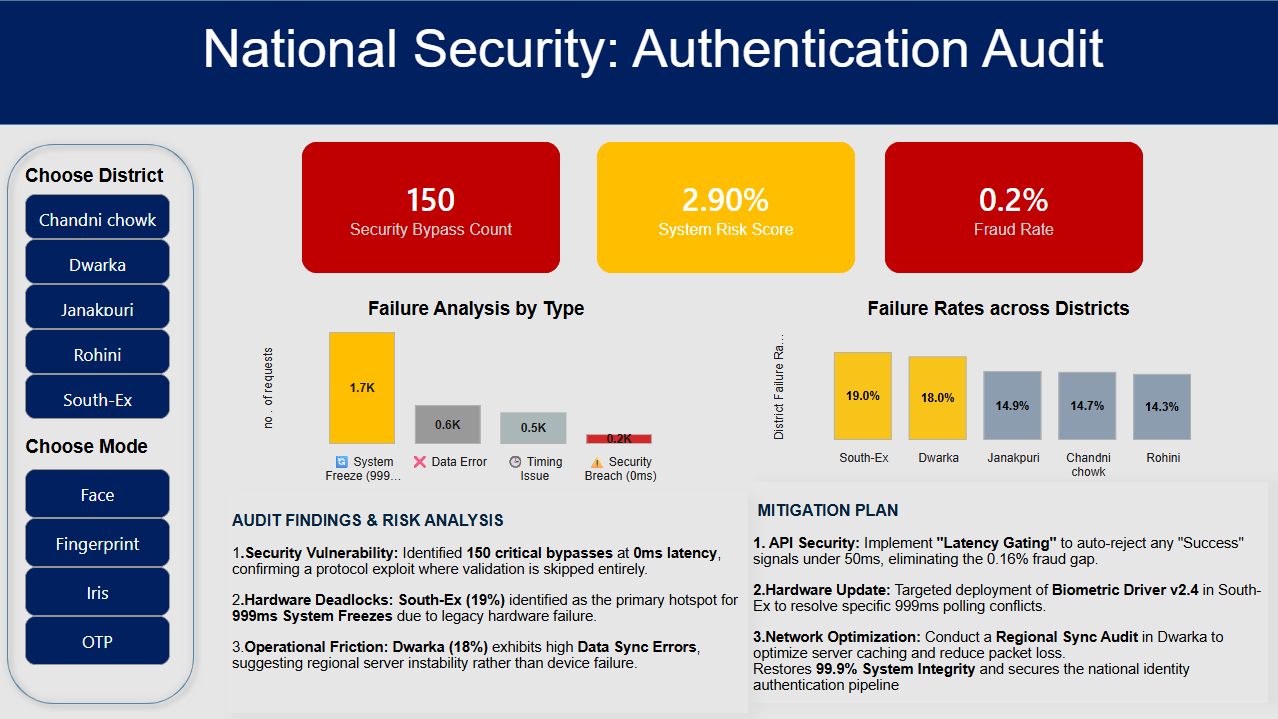

This screenshot's page, from the dashboard's own definition file:
{"tool":"powerbi","page":{"name":"Page 1","canvas":[1280,720],"ordinal":0},"visuals":[{"type":"shape","box":[0,135,205,578],"z":0},{"type":"cardVisual","fields":{"Data":["All measures.Fraud Rate"]},"box":[887.3,142,257.7,131],"z":1000,"group":"g1"},{"type":"clusteredColumnChart","title":"Failure Rates across Districts","fields":{"Y":["All measures.District Failure Rate %"],"Category":["main_finding_flagged.Standardized_District"]},"box":[756,298,469,184],"z":1000},{"type":"shape","box":[0,0,1500,124.6],"z":2000},{"type":"cardVisual","fields":{"Data":["All measures.System Risk Score"]},"box":[599.4,142,257.7,131],"z":2000,"group":"g1"},{"type":"textbox","box":[30.4,13,1249.3,92.8],"z":3000},{"type":"cardVisual","fields":{"Data":["All measures.Security Bypass Count"]},"box":[304,142,257.7,131],"z":3000,"group":"g1"},{"type":"advancedSlicerVisual","fields":{"Values":["main_finding_flagged.Standardized_Modality"]},"box":[22,464,155,208],"z":4000},{"type":"clusteredColumnChart","title":"Failure Analysis by Type","fields":{"Category":["main_finding_flagged.Forensic_Label"],"Y":["CountNonNull(main_finding_flagged.Request_ID)"]},"box":[245,298,451,193],"z":5000},{"type":"advancedSlicerVisual","fields":{"Values":["main_finding_flagged.Standardized_District"]},"box":[22,189,155,235],"z":6000},{"type":"textbox","box":[22,160,162,40],"z":7000},{"type":"textbox","box":[0,431,177,40],"z":8000},{"type":"group","id":"g1","title":"Group 1","box":[304,142,841,131],"z":9000},{"type":"textbox","box":[229,492,521,221],"z":10000},{"type":"textbox","box":[750,482,520,221],"z":11000}]}

Visuals, with their boxes in screenshot pixels (x1, y1, x2, y2), scaled from the page's 1280x720 canvas onto the 1278x719 screenshot:
shape: 0, 135, 205, 712
cardVisual - All measures.Fraud Rate: 886, 142, 1143, 273
"Failure Rates across Districts" clusteredColumnChart: 755, 298, 1223, 481
shape: 0, 0, 1277, 124
cardVisual - All measures.System Risk Score: 598, 142, 856, 273
textbox: 30, 13, 1277, 106
cardVisual - All measures.Security Bypass Count: 304, 142, 561, 273
advancedSlicerVisual - main_finding_flagged.Standardized_Modality: 22, 463, 177, 671
"Failure Analysis by Type" clusteredColumnChart: 245, 298, 695, 490
advancedSlicerVisual - main_finding_flagged.Standardized_District: 22, 189, 177, 423
textbox: 22, 160, 184, 200
textbox: 0, 430, 177, 470
"Group 1" group: 304, 142, 1143, 273
textbox: 229, 491, 749, 712
textbox: 749, 481, 1268, 702
